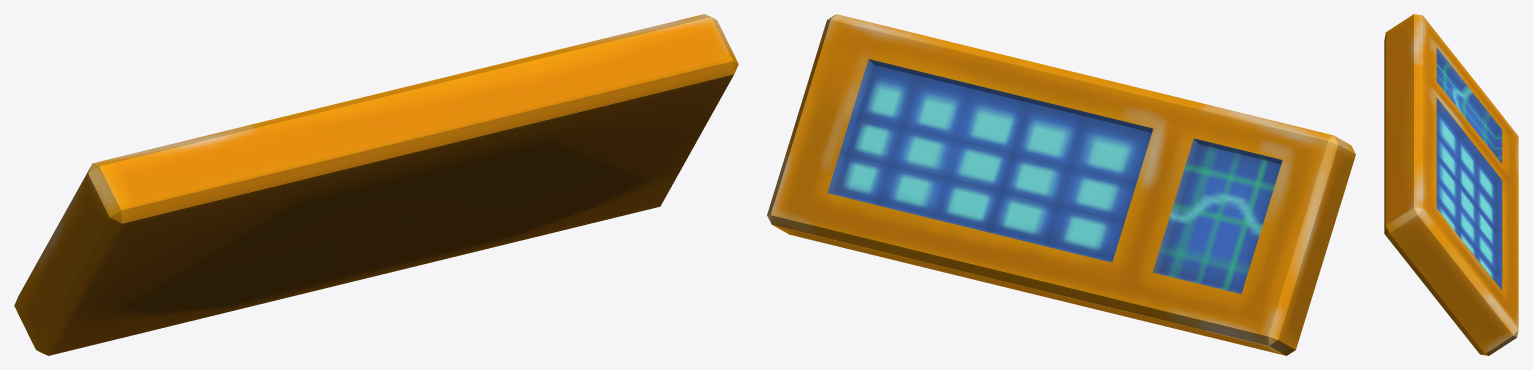
Rendered from DigiPad.FBX.
3 views of the same model, side by side, from view 1: azimuth 30°, elevation 25°; view 2: azimuth 150°, elevation 25°; view 3: azimuth 270°, elevation 25° (orthographic). The views are drawn at different scales.
Visible parts, largest first — view 1: Teclado01; view 2: Teclado01; view 3: Teclado01.
Part boxes in pixels (<box>): Teclado01: <box>14,14,738,355</box>; Teclado01: <box>767,14,1355,355</box>; Teclado01: <box>1384,14,1518,355</box>.
Bounding box in the file's own units: 73.83 × 21.05 × 25.69.
